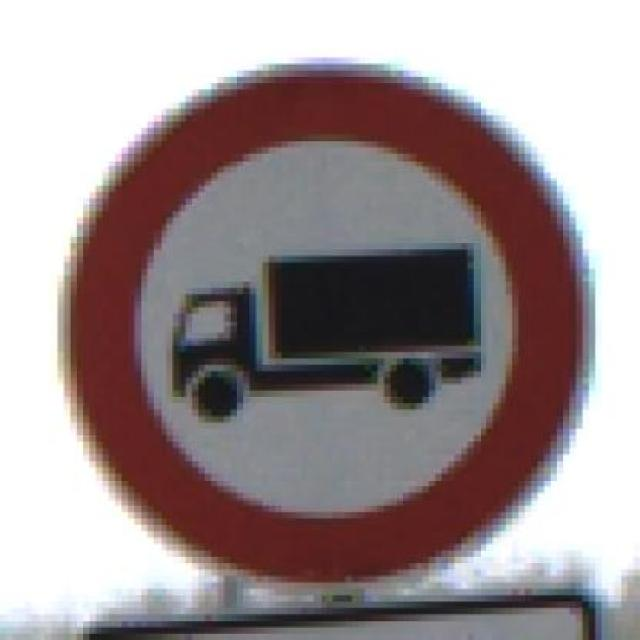Truck traffic is prohibited: (32, 63, 602, 595)
